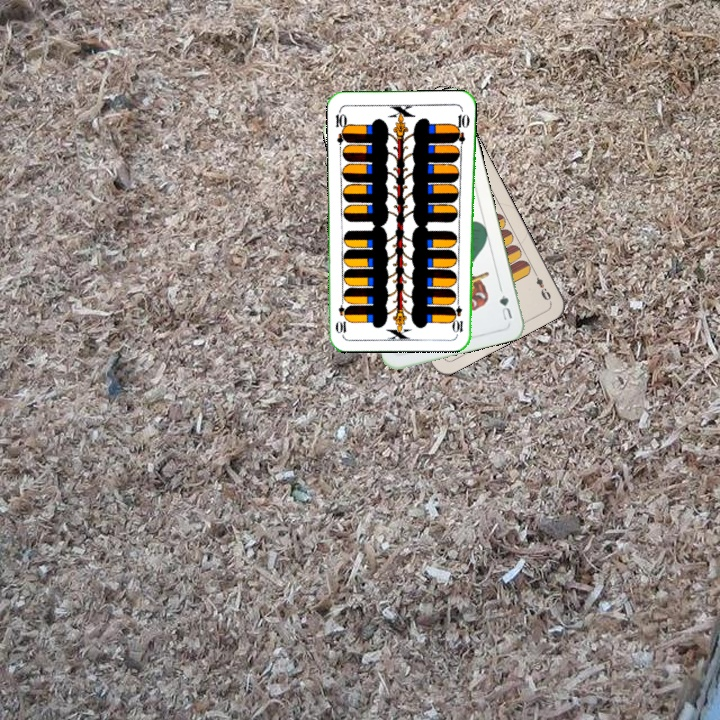E10: (332, 106, 350, 147), (453, 294, 465, 335)
E9: (529, 266, 554, 304)
GU: (495, 291, 515, 324)
